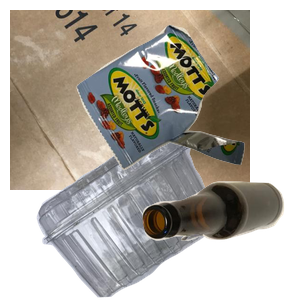cardboard: (10, 10, 250, 190)
glass: (140, 179, 300, 300)
plastic: (34, 130, 246, 300)
trash: (74, 22, 300, 185)
